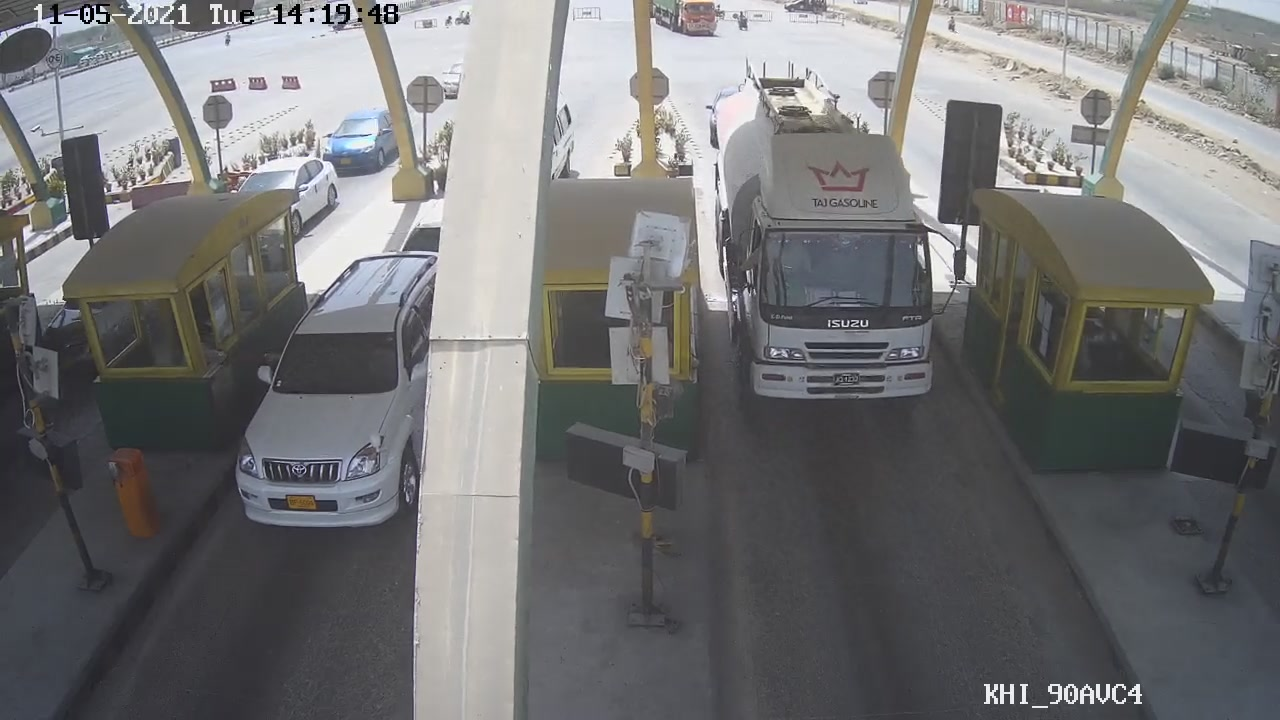F6: (700, 107, 969, 423)
